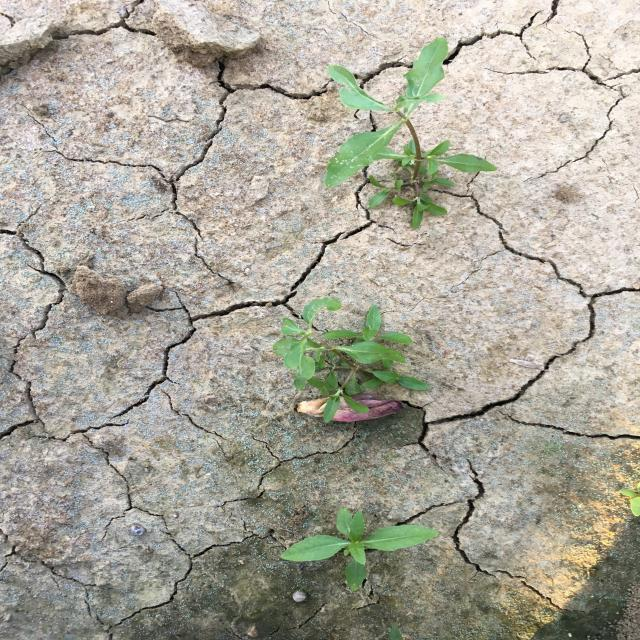Eclipta: (322, 34, 499, 231), (270, 295, 435, 424), (278, 507, 442, 593)
